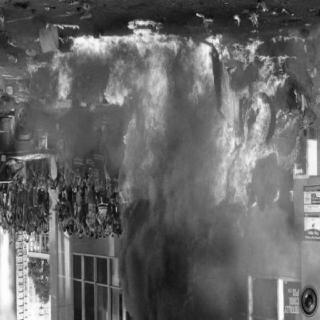Fire: (24, 34, 103, 112)
